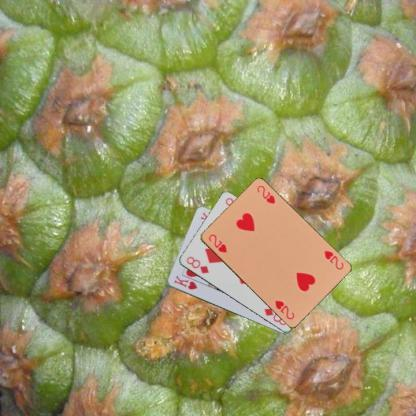2h: (321, 248, 345, 271), (206, 232, 228, 254)
8d: (184, 254, 209, 276)
Kh: (172, 273, 198, 291)
